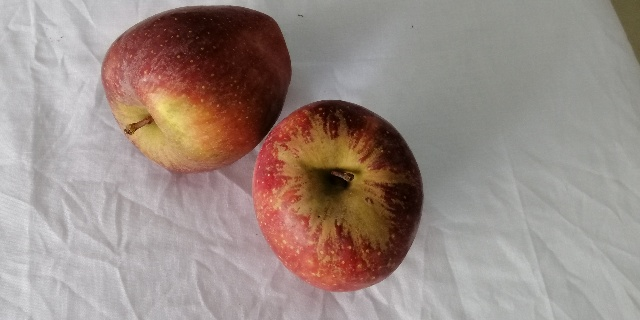apple_kashmir: (100, 3, 292, 176), (256, 105, 427, 292)
